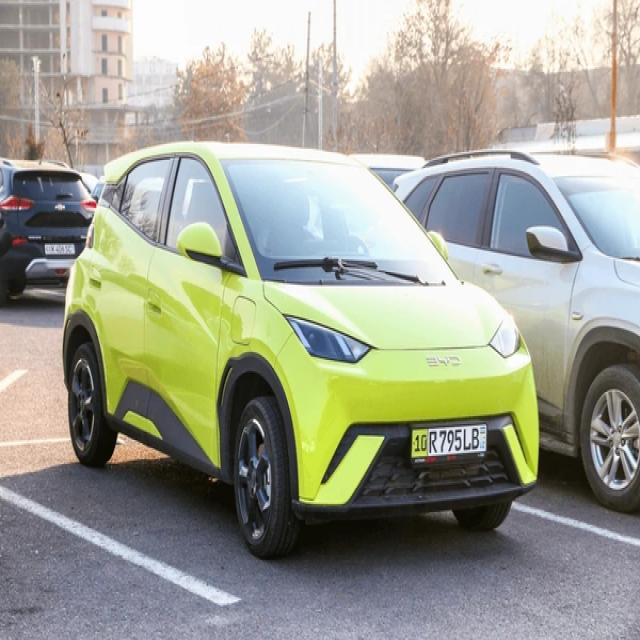byd: (422, 350, 463, 370)
